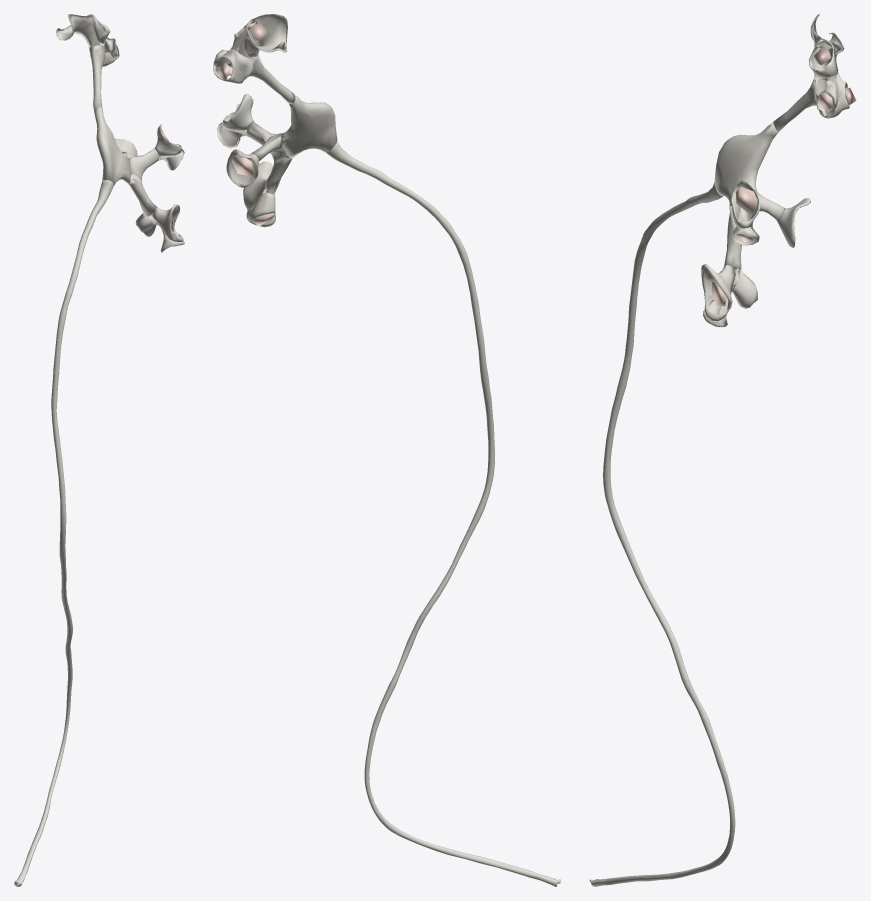
File: vh_f_ureter_l-20.glb
3 renders of one model, left to right at view 1: azimuth 30°, elevation 25°; view 2: azimuth 150°, elevation 25°; view 3: azimuth 270°, elevation 25°, orthographic. The views are drawn at different scales.
Parts seen in each view (by area): view 1: VH_F_left_ureter, VH_F_renal_pelvis_L, VH_F_minor_calyx_L_a, VH_F_major_calyx_L_a, VH_F_minor_calyx_L_h, VH_F_major_calyx_L_d, VH_F_major_calyx_L_c, VH_F_minor_calyx_L_f; view 2: VH_F_left_ureter, VH_F_renal_pelvis_L, VH_F_minor_calyx_L_a, VH_F_minor_calyx_L_c, VH_F_minor_calyx_L_f, VH_F_minor_calyx_L_e, VH_F_minor_calyx_L_h; view 3: VH_F_left_ureter, VH_F_renal_pelvis_L, VH_F_minor_calyx_L_h, VH_F_major_calyx_L_a, VH_F_minor_calyx_L_b, VH_F_minor_calyx_L_f, VH_F_minor_calyx_L_e, VH_F_minor_calyx_L_i, VH_F_minor_calyx_L_d, VH_F_major_calyx_L_d.
Part boxes in pixels (x1,y1,x2,y2): VH_F_left_ureter: (14,180,113,886); VH_F_renal_pelvis_L: (94,106,130,185); VH_F_minor_calyx_L_a: (56,14,100,47); VH_F_major_calyx_L_a: (89,44,105,110); VH_F_minor_calyx_L_h: (151,204,183,241); VH_F_major_calyx_L_d: (128,173,156,216); VH_F_major_calyx_L_c: (129,148,159,180); VH_F_minor_calyx_L_f: (154,124,181,155); VH_F_left_ureter: (326,141,560,886); VH_F_renal_pelvis_L: (281,94,337,158); VH_F_minor_calyx_L_a: (238,14,287,59); VH_F_minor_calyx_L_c: (213,49,253,83); VH_F_minor_calyx_L_f: (222,94,253,130); VH_F_minor_calyx_L_e: (226,149,258,187); VH_F_minor_calyx_L_h: (243,161,273,211); VH_F_left_ureter: (589,182,735,886); VH_F_renal_pelvis_L: (714,122,777,208); VH_F_minor_calyx_L_h: (701,263,735,321); VH_F_major_calyx_L_a: (773,76,819,132); VH_F_minor_calyx_L_b: (809,39,838,79); VH_F_minor_calyx_L_f: (731,180,759,228); VH_F_minor_calyx_L_e: (777,198,810,247); VH_F_minor_calyx_L_i: (732,269,757,308); VH_F_minor_calyx_L_d: (816,74,838,117); VH_F_major_calyx_L_d: (724,205,741,271).
Size of the model in its own units: 0.0824 by 0.266 by 0.0672.
